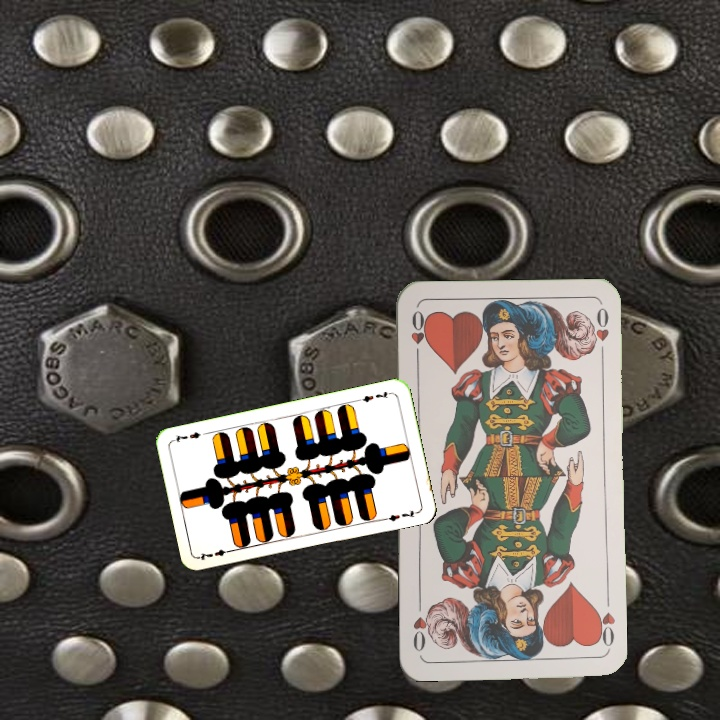E7: (195, 545, 236, 563), (354, 387, 394, 405)
HO: (407, 306, 429, 365), (591, 604, 617, 652)
